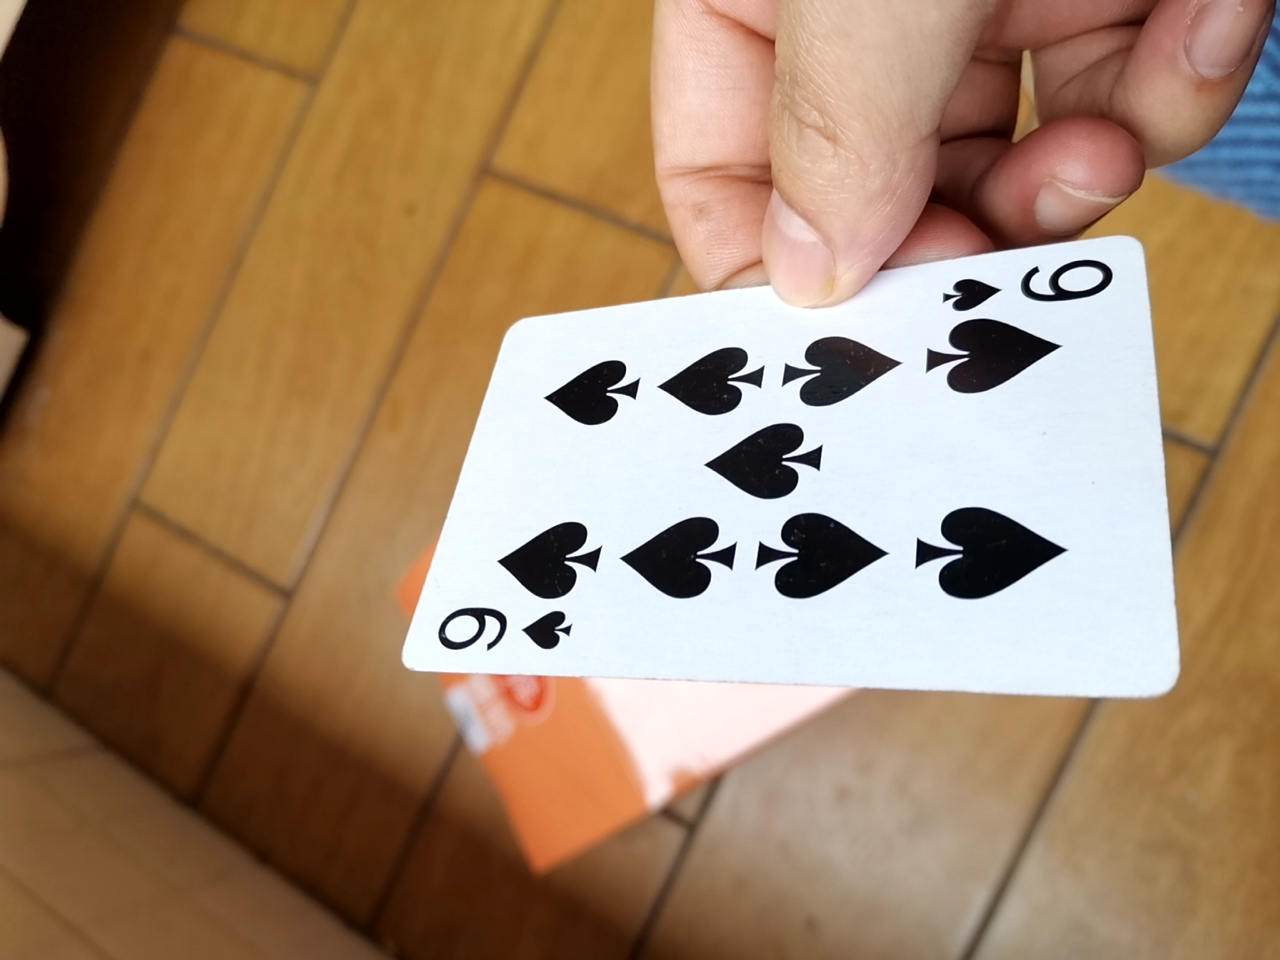ht 9: (380, 243, 1198, 717)
